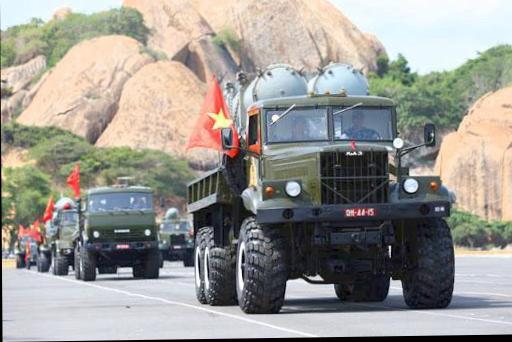License_Plate: (342, 206, 380, 218), (115, 242, 134, 250)
